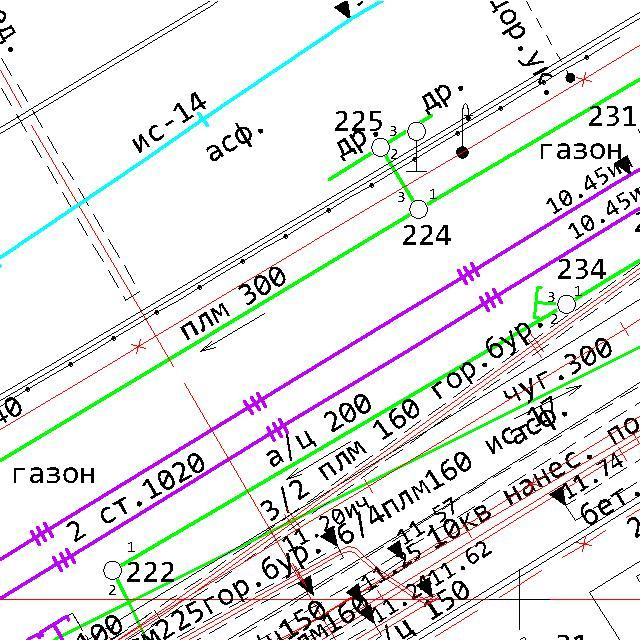asphalt: (204, 121, 264, 164), (509, 404, 569, 446)
mark: (319, 526, 340, 548), (333, 0, 353, 22), (548, 485, 568, 507), (295, 574, 315, 595), (415, 576, 434, 598), (345, 582, 365, 602), (386, 539, 404, 560), (615, 154, 632, 176), (357, 602, 374, 624)
well: (101, 559, 124, 581), (408, 198, 430, 220), (556, 293, 578, 315), (371, 137, 391, 158)
